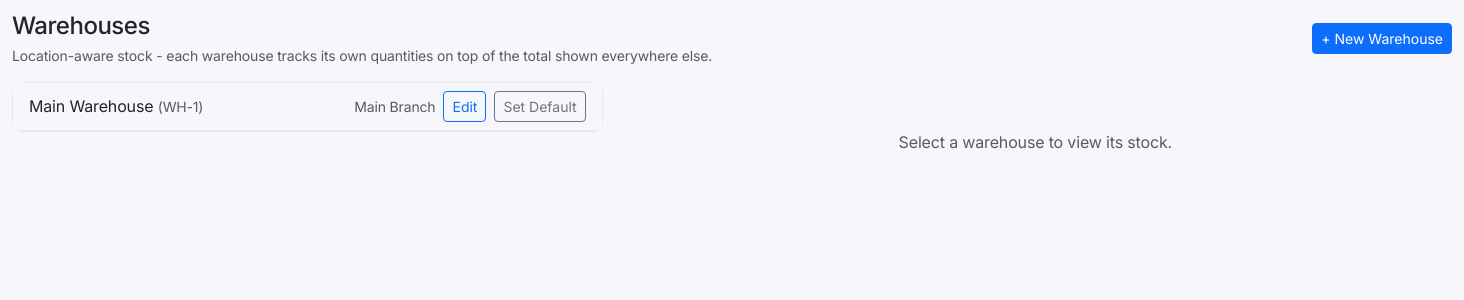
Test case: Warehouses page › lists warehouses and shows stock when one is selected
The image size is (1464, 300).
Click the button "Main Warehouse (WH-1)" at (116, 106), box [29,94,203,118]
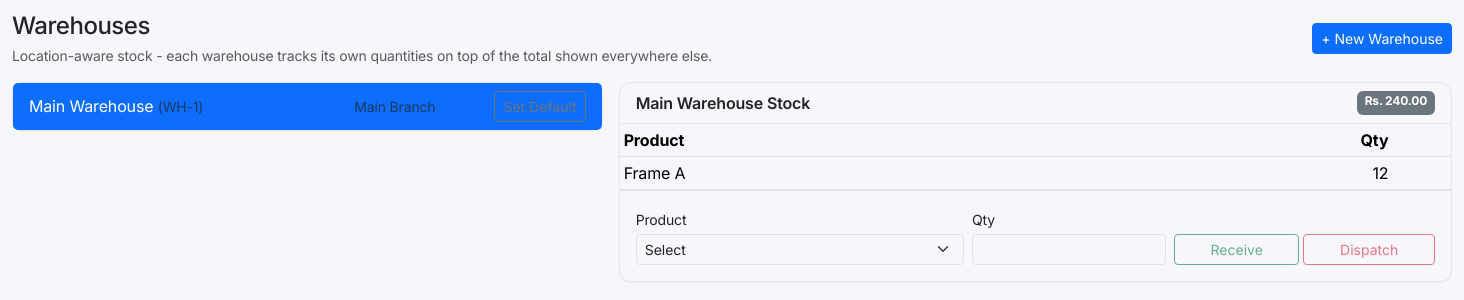
Expected: the text "Frame A" is shown, [620,156,1130,189]
Expected: the text "Rs. 240.00" is shown, [1357,91,1435,115]
